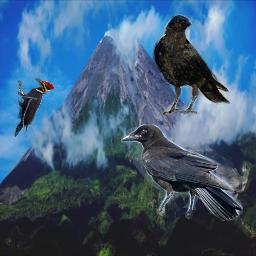Crow: (121, 124, 243, 221), (152, 14, 231, 115)
Woodpecker: (14, 78, 54, 137)
